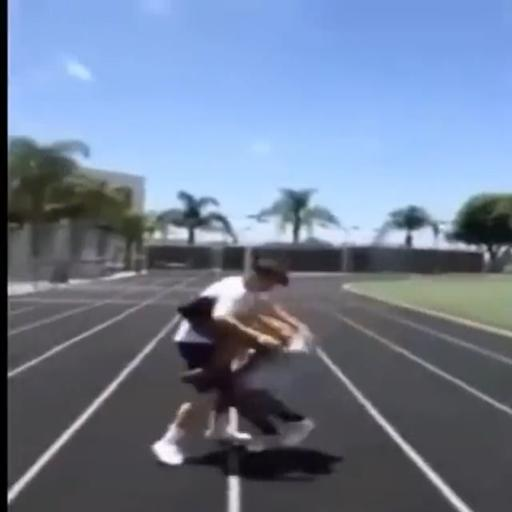violencia: (145, 236, 344, 480)
